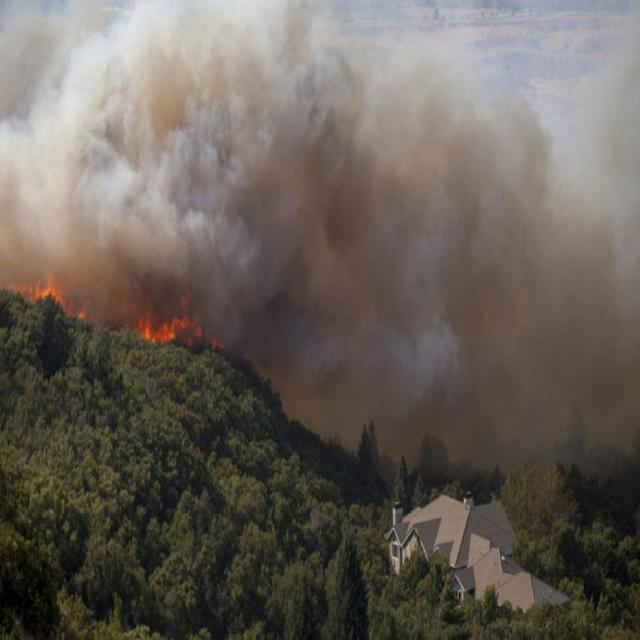Fire: (135, 280, 223, 355), (1, 266, 91, 326), (92, 264, 134, 330)
Smoke: (275, 6, 640, 482), (0, 0, 272, 261)
